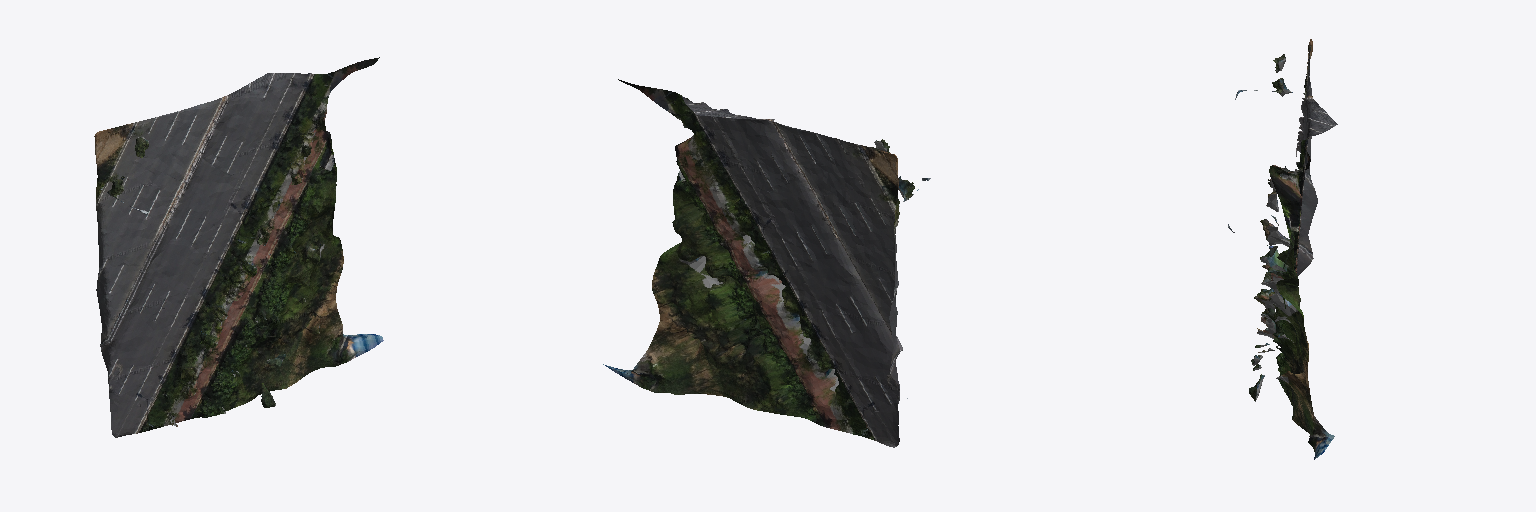
The picture shows the model from 3 angles: view 1: azimuth 30°, elevation 25°; view 2: azimuth 150°, elevation 25°; view 3: azimuth 270°, elevation 25°; orthographic projection.
Size of the model in its own units: 60.66 by 61.52 by 20.99.
Materials: 2 (1 with a texture image).